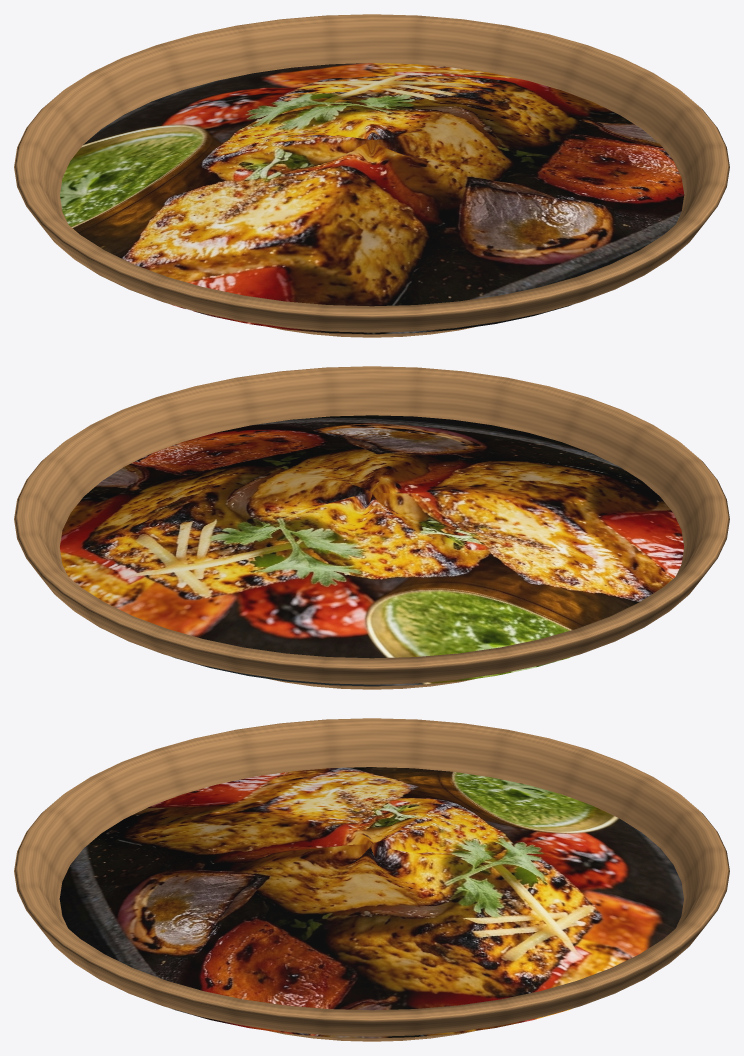
File: paneer-tikka.glb
The picture shows the model from 3 angles, top to bottom: view 1: azimuth 30°, elevation 25°; view 2: azimuth 150°, elevation 25°; view 3: azimuth 270°, elevation 25°; orthographic projection.
Parts seen in each view (by area): view 1: FoodMound, BambooBowl; view 2: FoodMound, BambooBowl; view 3: FoodMound, BambooBowl.
Boxes of the visible parts, <box> form: FoodMound: <box>60,63,684,334</box>; BambooBowl: <box>14,14,729,337</box>; FoodMound: <box>60,415,683,686</box>; BambooBowl: <box>14,366,729,689</box>; FoodMound: <box>59,767,683,1038</box>; BambooBowl: <box>14,718,729,1041</box>.
Bounding box in the file's own units: 0.27 × 0.044 × 0.27.
2 materials, 2 textured.
